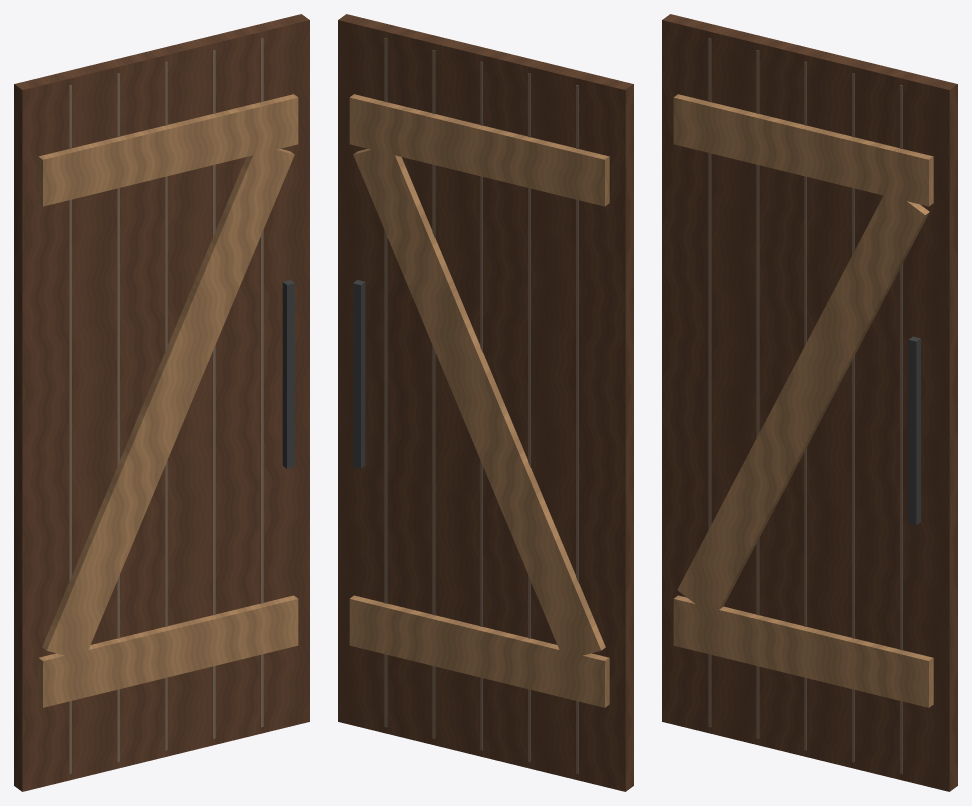
Rendered from mlo_door_sliding_barn.glb.
3 renders of one model, left to right at view 1: azimuth 30°, elevation 25°; view 2: azimuth 150°, elevation 25°; view 3: azimuth 330°, elevation 25°, orthographic.
Visible parts, largest first — view 1: Door_Sliding_Barn; view 2: Door_Sliding_Barn; view 3: Door_Sliding_Barn.
Part boxes in pixels (<box>): Door_Sliding_Barn: <box>14,14,309,791</box>; Door_Sliding_Barn: <box>338,14,633,791</box>; Door_Sliding_Barn: <box>662,14,957,791</box>.
Size of the model in its own units: 0.9 by 2.1 by 0.145.
Materials: 4 (2 with a texture image).
